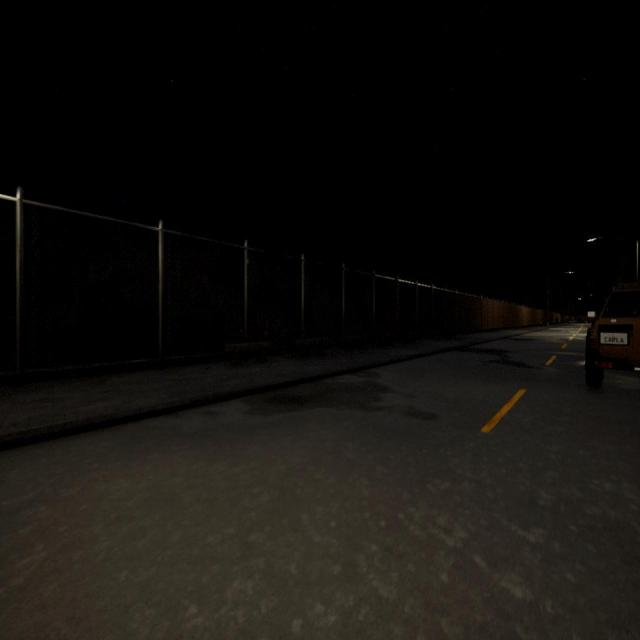Vehicle: (585, 283, 639, 387)
